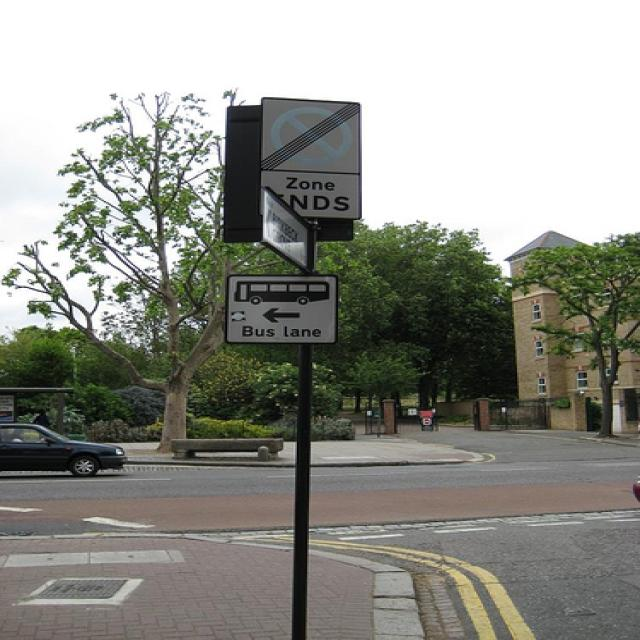Vehicle: (2, 426, 127, 479), (632, 472, 640, 504)
